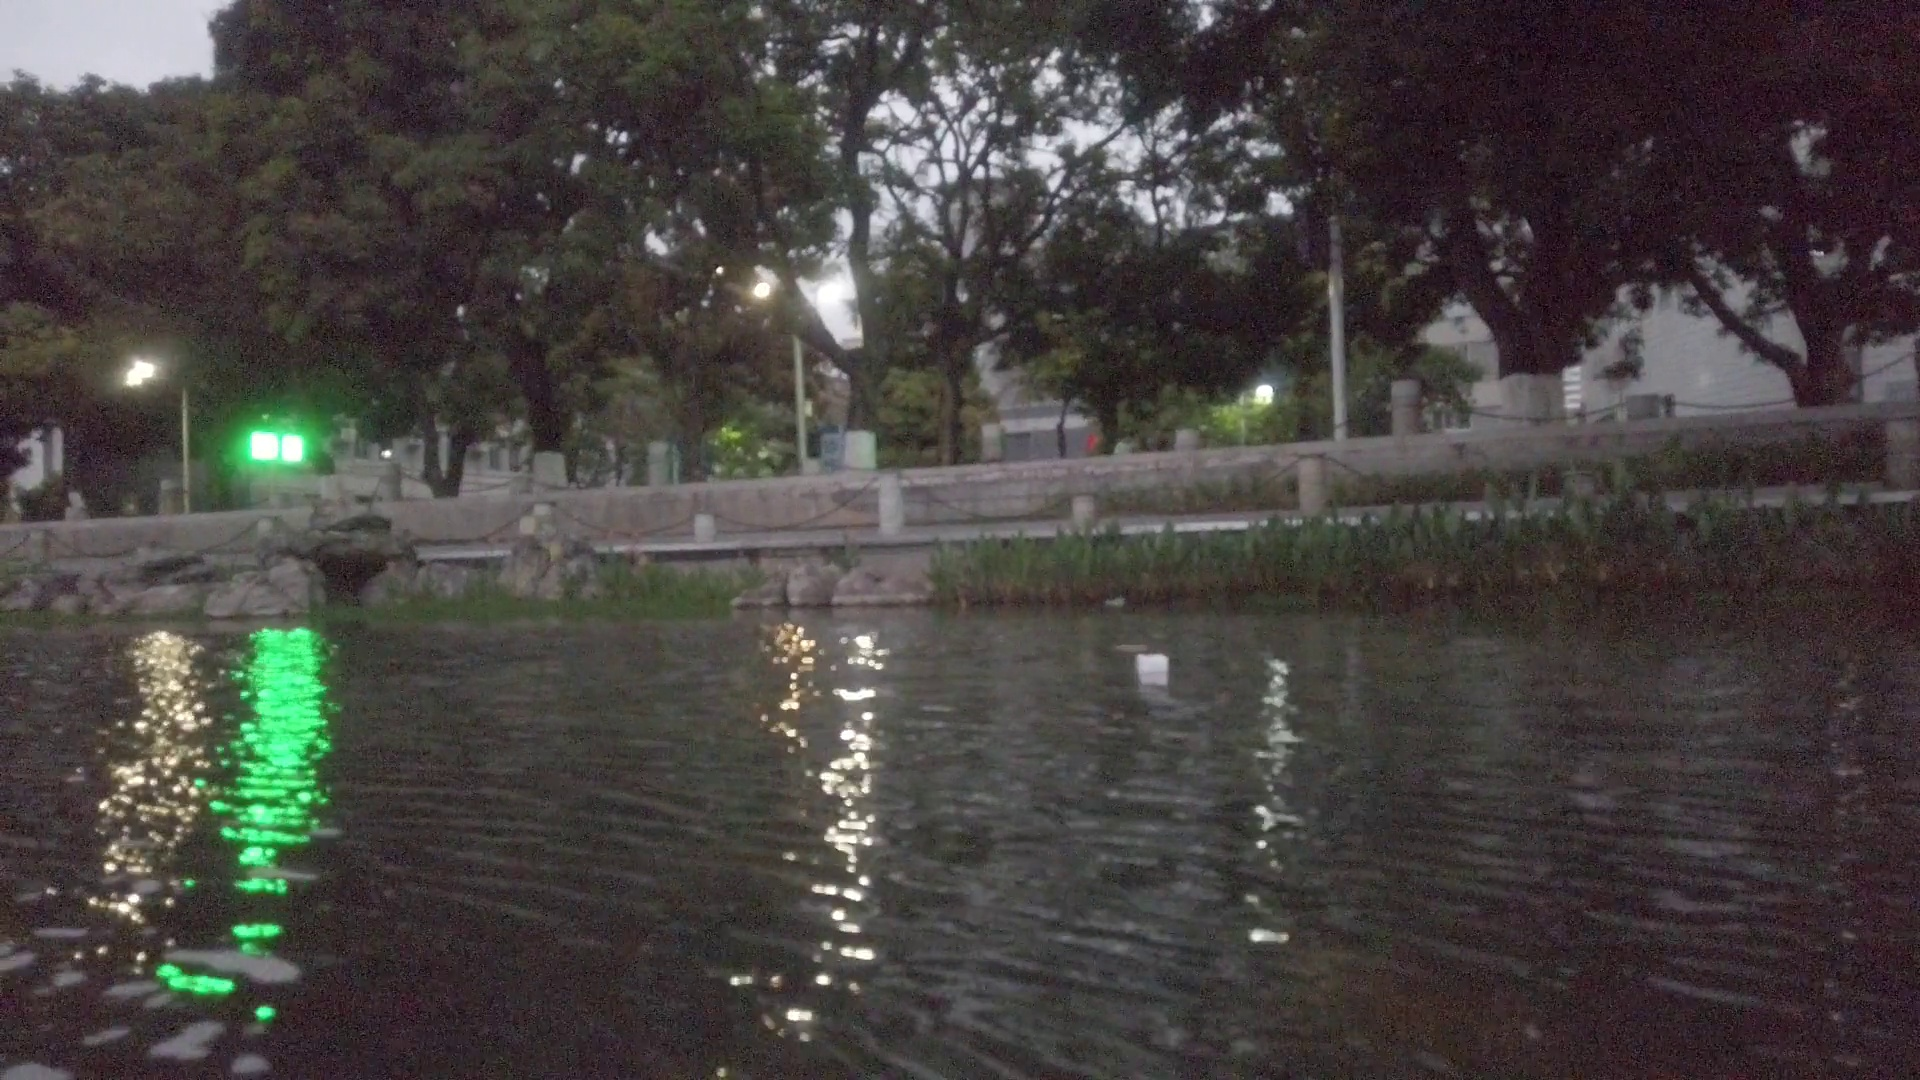carton: (1135, 651, 1171, 675)
